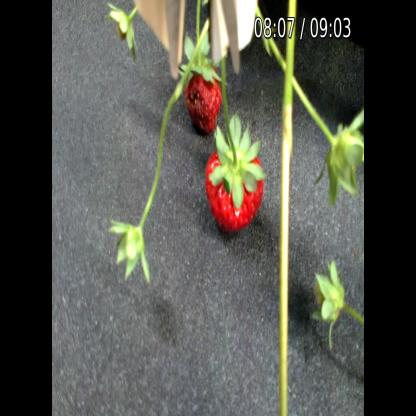ripe: (197, 148, 271, 237), (185, 68, 225, 140)
